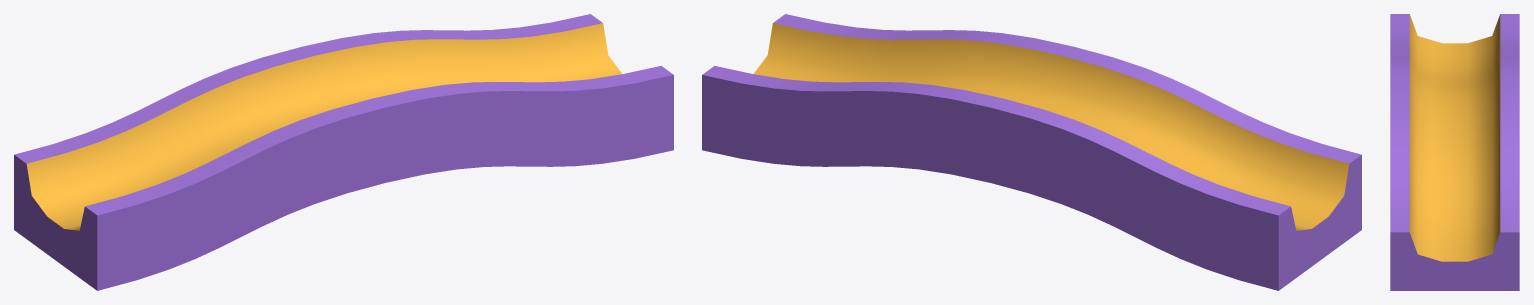
File: bump-a-col.glb
The picture shows the model from 3 angles, left to right: view 1: azimuth 30°, elevation 25°; view 2: azimuth 150°, elevation 25°; view 3: azimuth 270°, elevation 25°; orthographic projection. The views are drawn at different scales.
Parts seen in each view (by area): view 1: bump-a-col; view 2: bump-a-col; view 3: bump-a-col.
Part boxes in pixels (x1,y1,x2,y2): bump-a-col: (14, 14, 673, 290); bump-a-col: (702, 14, 1361, 290); bump-a-col: (1390, 14, 1519, 290).
Size of the model in its own units: 4 by 0.75 by 1.
1 material, 1 textured.
